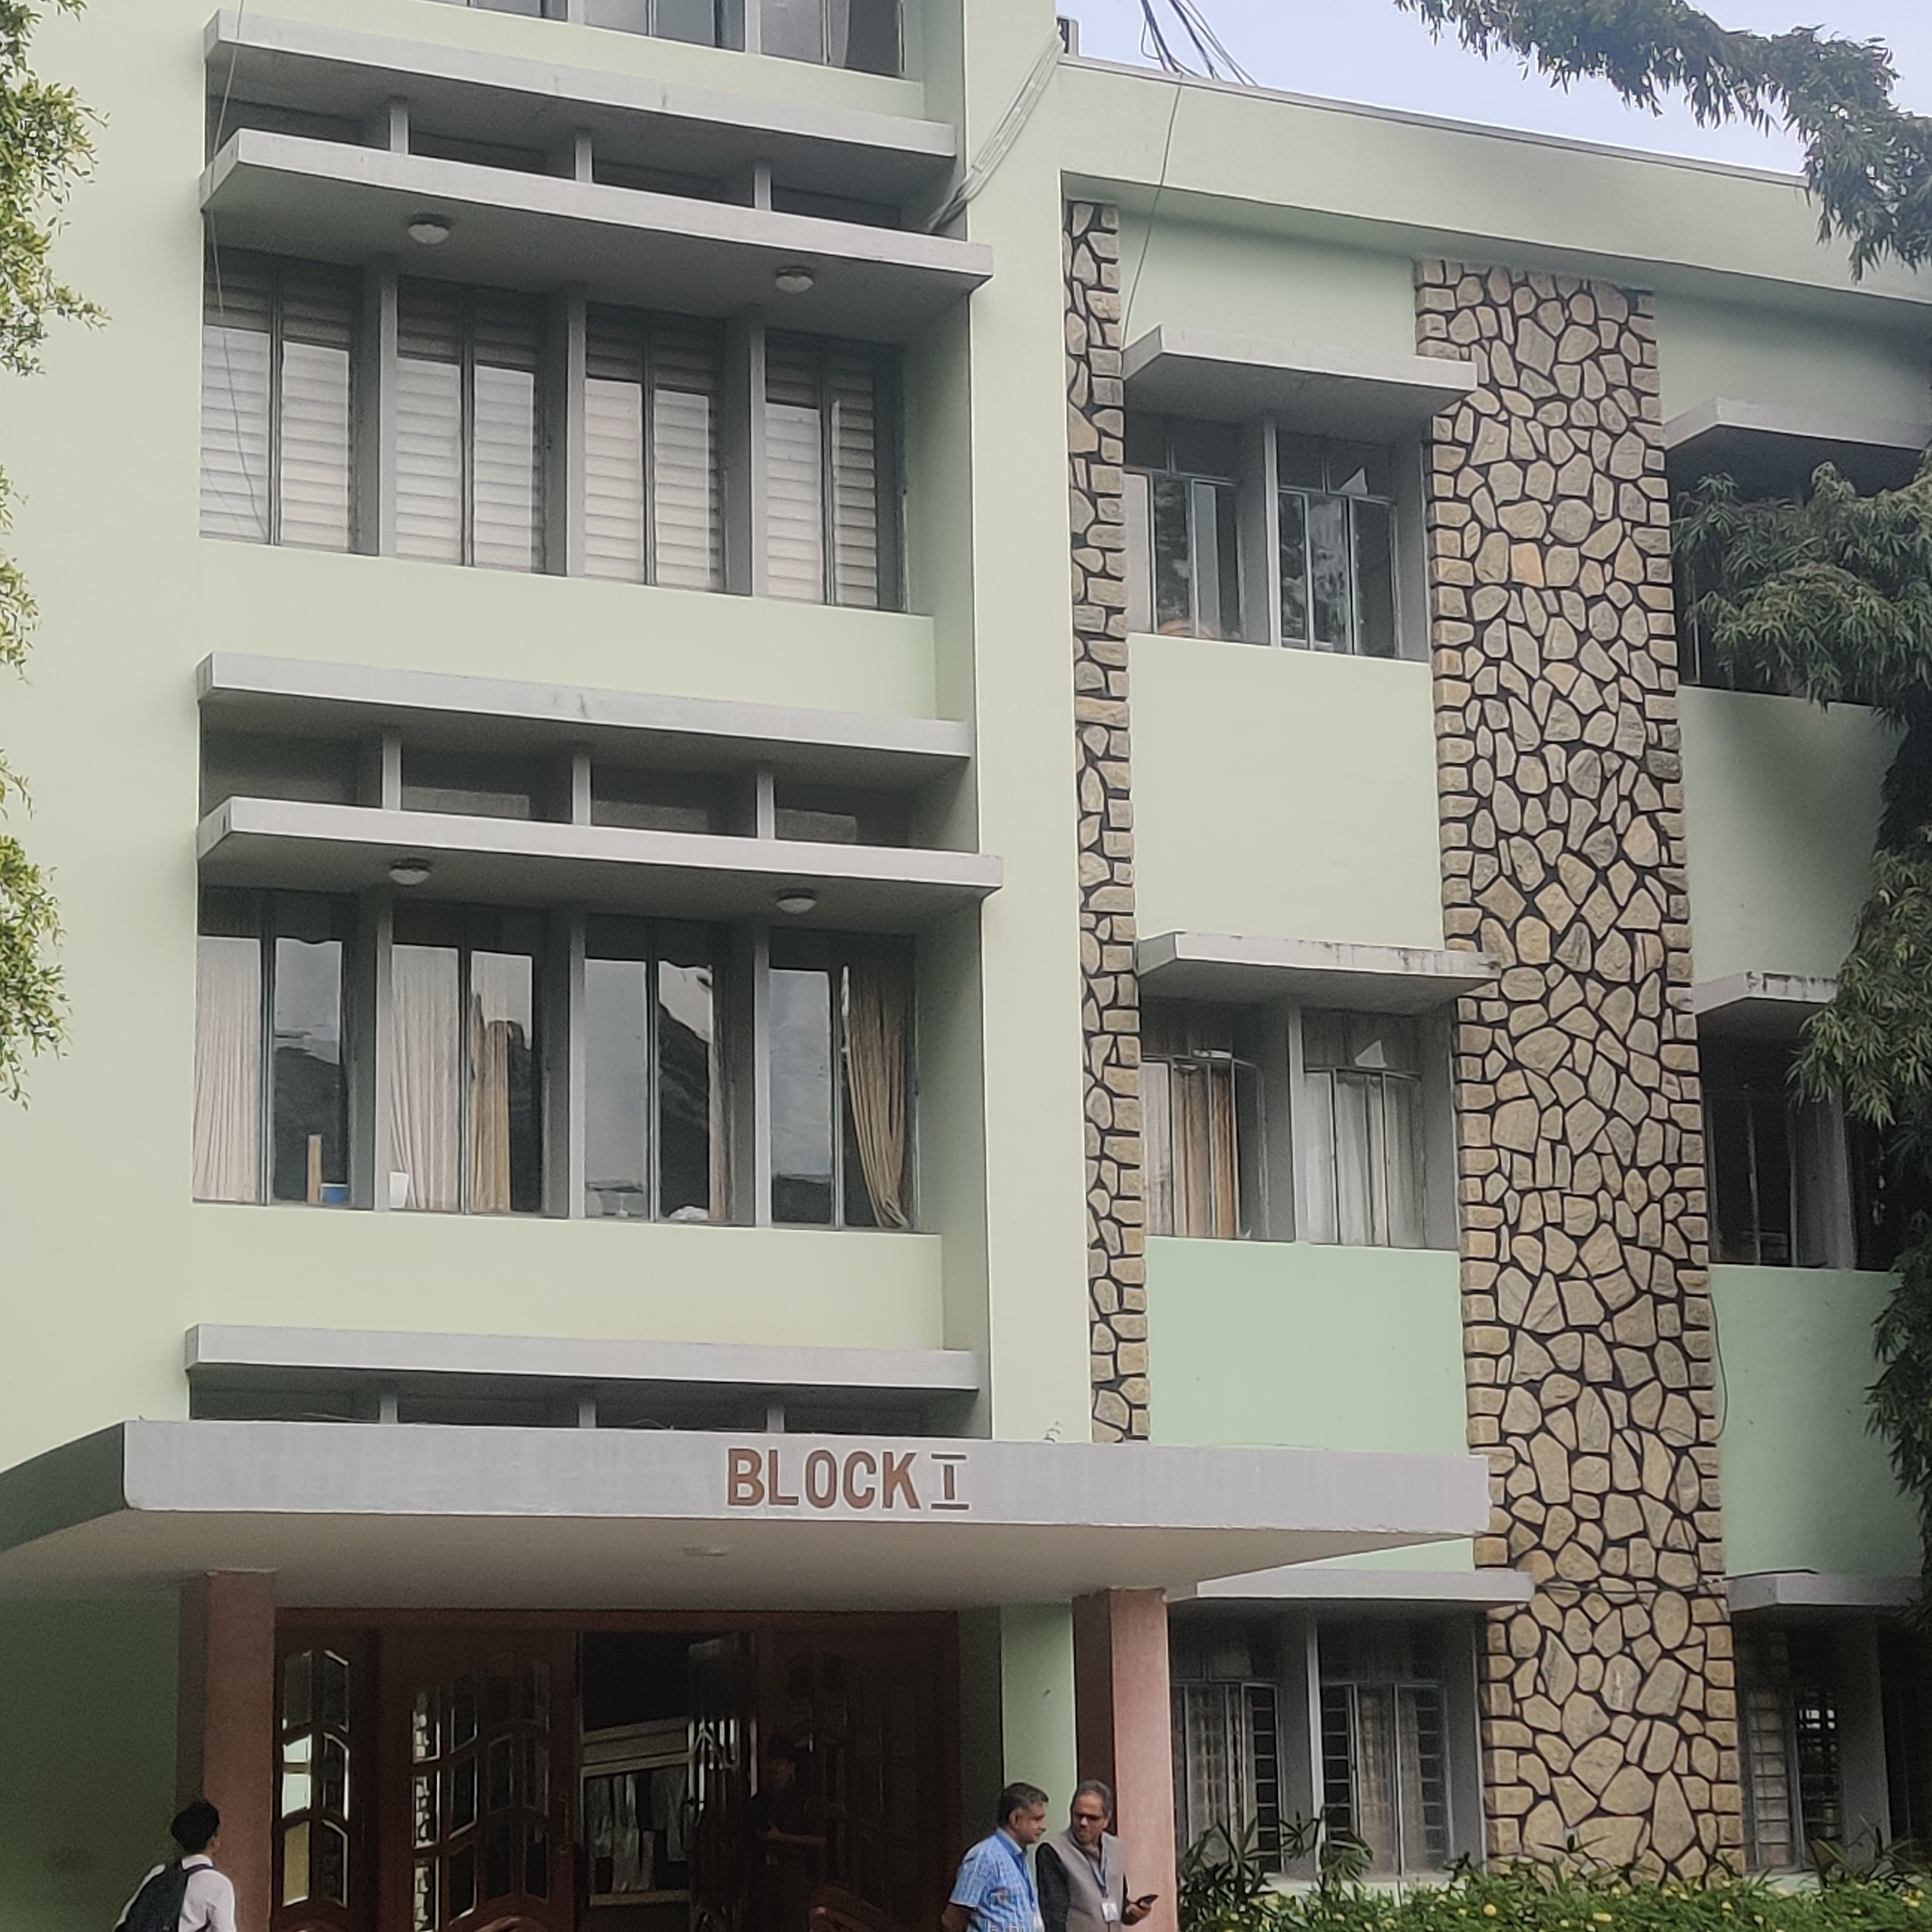Block 1: (58, 2, 1932, 1932)
